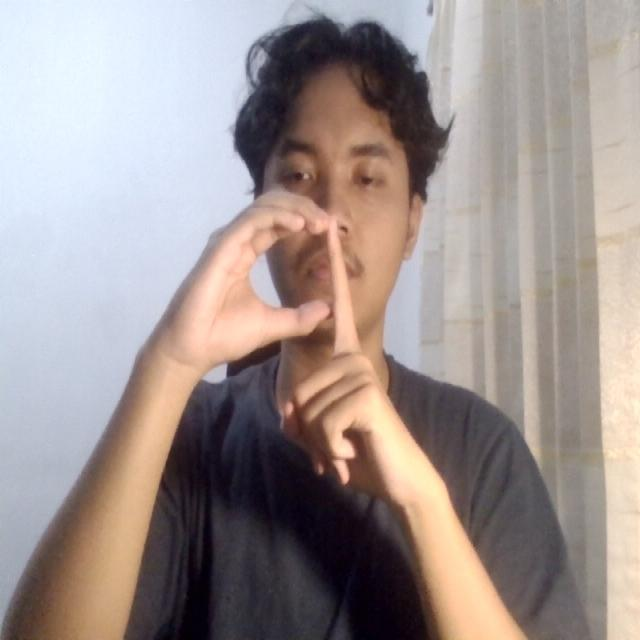D: (172, 173, 420, 515)
